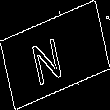N_N: (36, 25, 74, 85)
